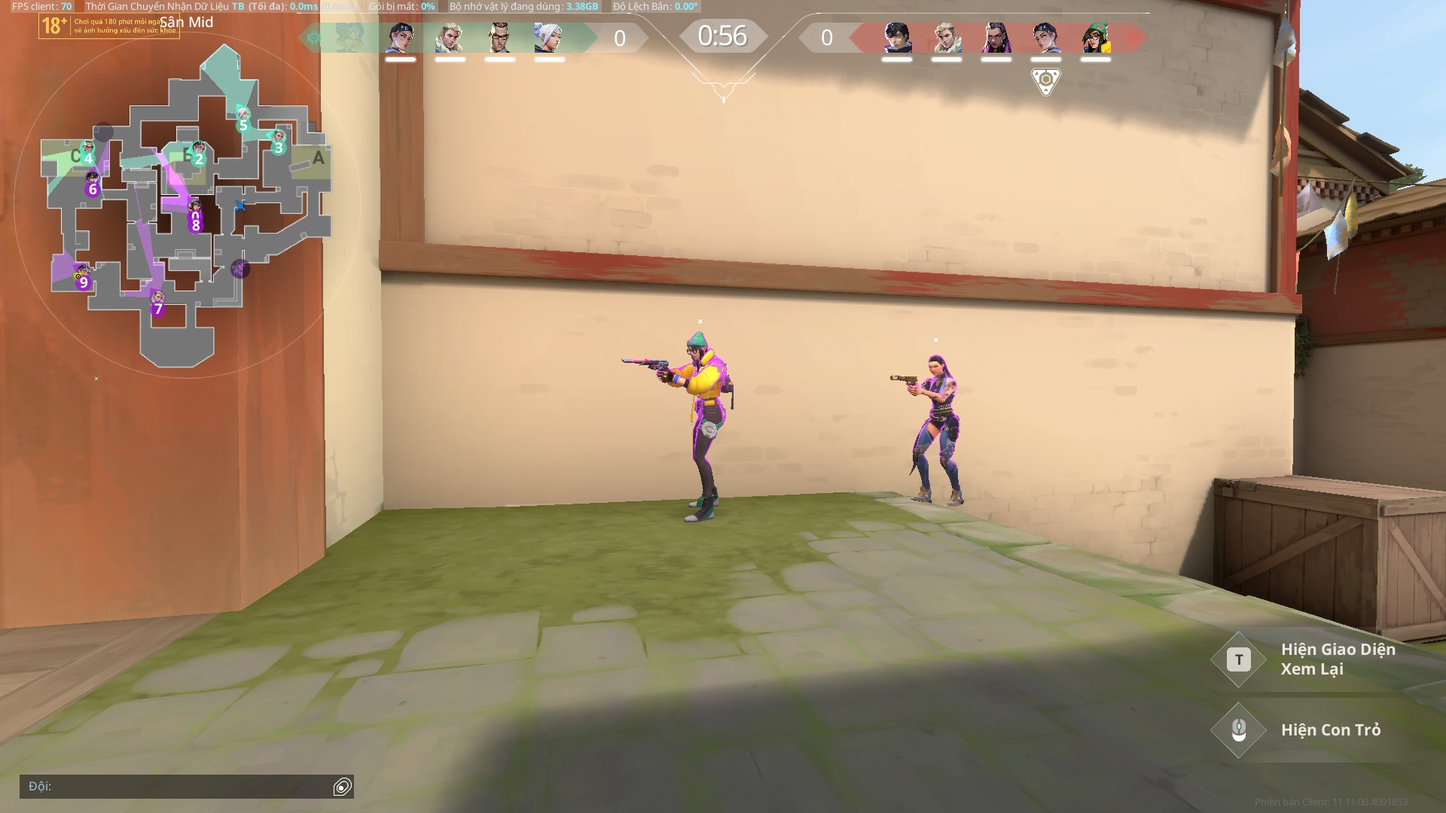body: (690, 357, 728, 400), (926, 375, 956, 409)
head: (686, 337, 706, 359), (927, 358, 947, 375)
